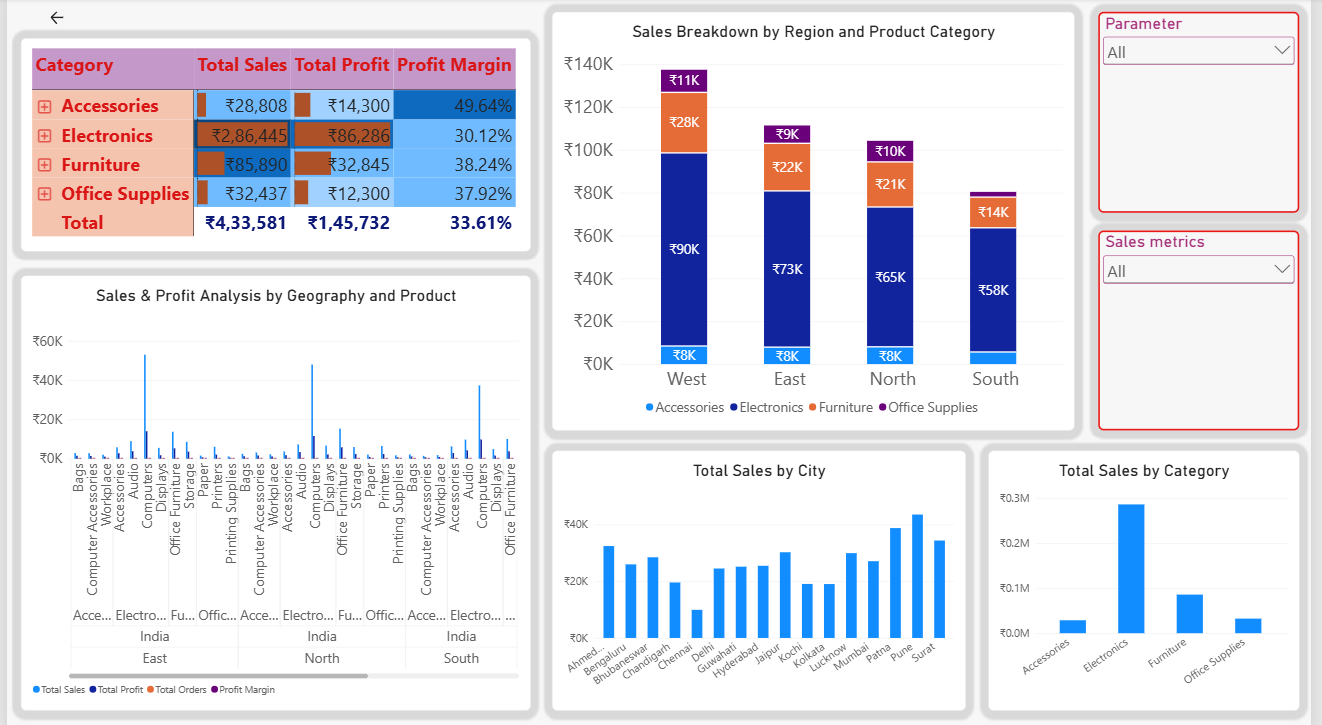

What the dashboard file says about the page in this screenshot:
{"tool":"powerbi","page":{"name":"Product Analysis","canvas":[1920,1080],"ordinal":1},"visuals":[{"type":"clusteredColumnChart","fields":{"Category":["ProductsTable.Product Hierarchy.Category","ProductsTable.Product Hierarchy.SubCategory","ProductsTable.Product Hierarchy.ProductName"],"Y":["SalesTable.Total Sales"]},"box":[1444.8,666.3,458.3,382.8],"z":0},{"type":"clusteredColumnChart","fields":{"Category":["CustomersTable.Geography Hierarchy.Region","CustomersTable.Geography Hierarchy.Country","CustomersTable.Geography Hierarchy.City"],"Y":["SalesTable.Total Sales"]},"box":[802.5,666.3,609.2,382.8],"z":1000},{"type":"pivotTable","fields":{"Rows":["ProductsTable.Category","ProductsTable.SubCategory"],"Values":["SalesTable.Total Sales","SalesTable.Total Profit","SalesTable.Profit Margin"]},"box":[20.2,58.9,750.9,314.7],"z":2000},{"type":"slicer","fields":{"Values":["Parameter.Parameter","Parameter.Parameter"]},"box":[1606.8,20.2,296.3,296.3],"z":4000},{"type":"columnChart","title":"Sales Breakdown by Region and Product Category","fields":{"Category":["SalesTable.Region"],"Series":["ProductsTable.Category"],"Y":["SalesTable.Total Sales"]},"box":[802.5,20.2,769.3,616.6],"z":5000},{"type":"slicer","fields":{"Values":["Sales metrics.Sales metrics"]},"box":[1606.8,342.3,296.3,294.5],"z":6000},{"type":"clusteredColumnChart","title":"Sales & Profit Analysis by Geography and Product","fields":{"Category":["SalesTable.Region","SalesTable.Country","ProductsTable.Category","ProductsTable.SubCategory"],"Y":["SalesTable.Total Sales","SalesTable.Total Profit","SalesTable.Total Orders","SalesTable.Profit Margin"]},"box":[20.2,408.6,750.9,640.5],"z":7000},{"type":"actionButton","box":[0,0,147.2,58.9],"z":7001}]}

Visuals, with their boxes in screenshot pixels (x1, y1, x2, y2), scaled from the page's 1920x1080 canvas onto the 1322x725 screenshot:
clusteredColumnChart - ProductsTable.Product Hierarchy.Category x ProductsTable.Product Hierarchy.SubCategory: [x1=995, y1=447, x2=1310, y2=704]
clusteredColumnChart - CustomersTable.Geography Hierarchy.Region x CustomersTable.Geography Hierarchy.Country: [x1=553, y1=447, x2=972, y2=704]
pivotTable - ProductsTable.Category x ProductsTable.SubCategory: [x1=14, y1=40, x2=531, y2=251]
slicer - Parameter.Parameter x Parameter.Parameter: [x1=1106, y1=14, x2=1310, y2=212]
"Sales Breakdown by Region and Product Category" columnChart: [x1=553, y1=14, x2=1082, y2=427]
slicer - Sales metrics.Sales metrics: [x1=1106, y1=230, x2=1310, y2=427]
"Sales & Profit Analysis by Geography and Product" clusteredColumnChart: [x1=14, y1=274, x2=531, y2=704]
actionButton: [x1=0, y1=0, x2=101, y2=40]
